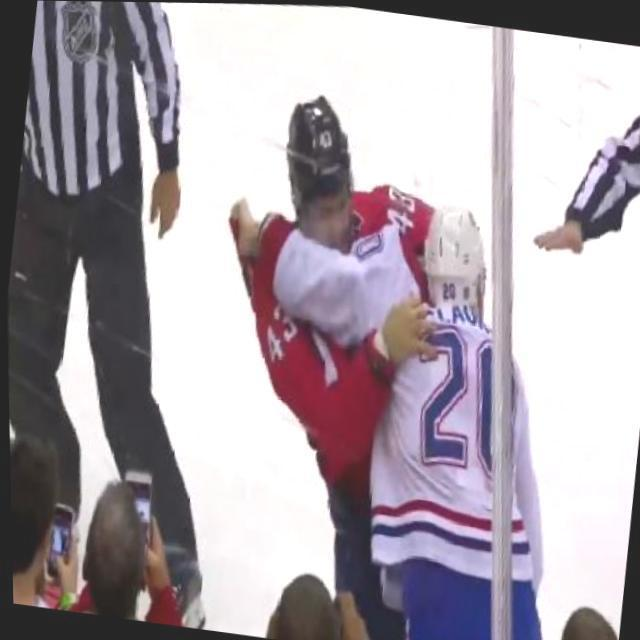fight: (159, 63, 555, 640)
